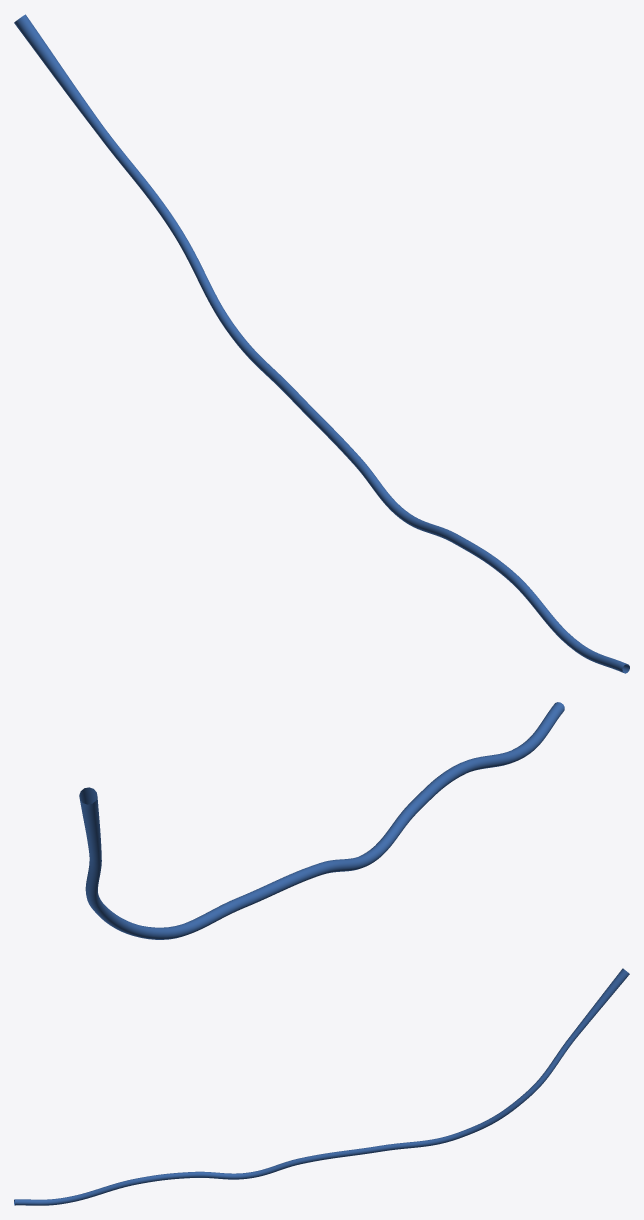
3 renders of one model, top to bottom at view 1: azimuth 30°, elevation 25°; view 2: azimuth 150°, elevation 25°; view 3: azimuth 270°, elevation 25°, orthographic. The views are drawn at different scales.
Visible parts, largest first — view 1: 右侧腹壁下静脉; view 2: 右侧腹壁下静脉; view 3: 右侧腹壁下静脉.
Part boxes in pixels (x1=…): 右侧腹壁下静脉: x1=14, y1=14, x2=629, y2=673; 右侧腹壁下静脉: x1=79, y1=702, x2=564, y2=939; 右侧腹壁下静脉: x1=14, y1=968, x2=629, y2=1205.
Bounding box in the file's own units: 0.0424 × 0.1082 × 0.2944.
